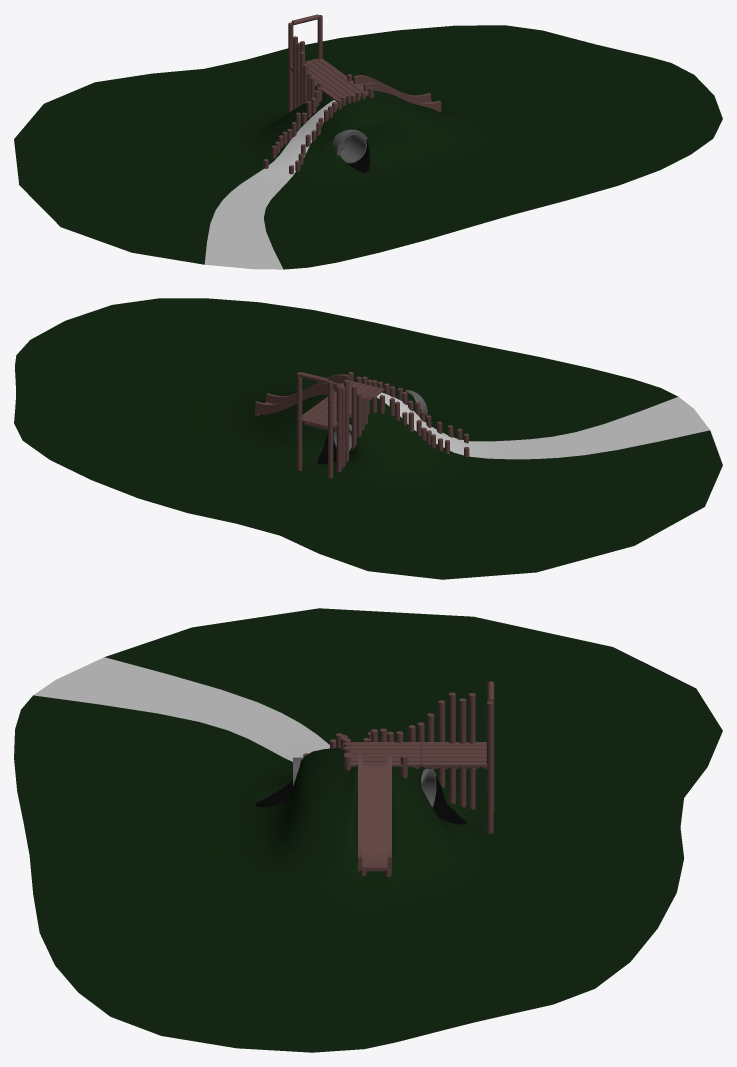
Rendered from CASA_juegos_tubo_003_export.fbx.
3 views of the same model, one above another, from view 1: azimuth 30°, elevation 25°; view 2: azimuth 150°, elevation 25°; view 3: azimuth 270°, elevation 25° (orthographic). The views are drawn at different scales.
Visible parts, largest first — view 1: Plane, Plane.001, Tobogan_mesh, tubo_hormigon, Cylinder.036; view 2: Plane, Tobogan_mesh, Plane.001, Cylinder.036, Cylinder.037, Cylinder.038; view 3: Plane, Tobogan_mesh, Plane.001, Cylinder.037, Cylinder.038.
Boxes of the visible parts, box(x1,y1,x2,y2) form: Plane: box(14, 25, 722, 269); Plane.001: box(289, 58, 368, 101); Tobogan_mesh: box(353, 75, 441, 111); tubo_hormigon: box(333, 129, 367, 163); Cylinder.036: box(288, 22, 293, 112); Plane: box(14, 298, 722, 579); Tobogan_mesh: box(255, 374, 349, 414); Plane.001: box(301, 380, 384, 427); Cylinder.036: box(328, 381, 333, 478); Cylinder.037: box(297, 372, 302, 470); Cylinder.038: box(336, 385, 341, 472); Plane: box(14, 608, 722, 1052); Tobogan_mesh: box(358, 753, 391, 871); Plane.001: box(351, 742, 488, 766); Cylinder.037: box(486, 701, 493, 833); Cylinder.038: box(468, 693, 475, 809).
Size of the model in its own units: 2978 by 454 by 2008.
